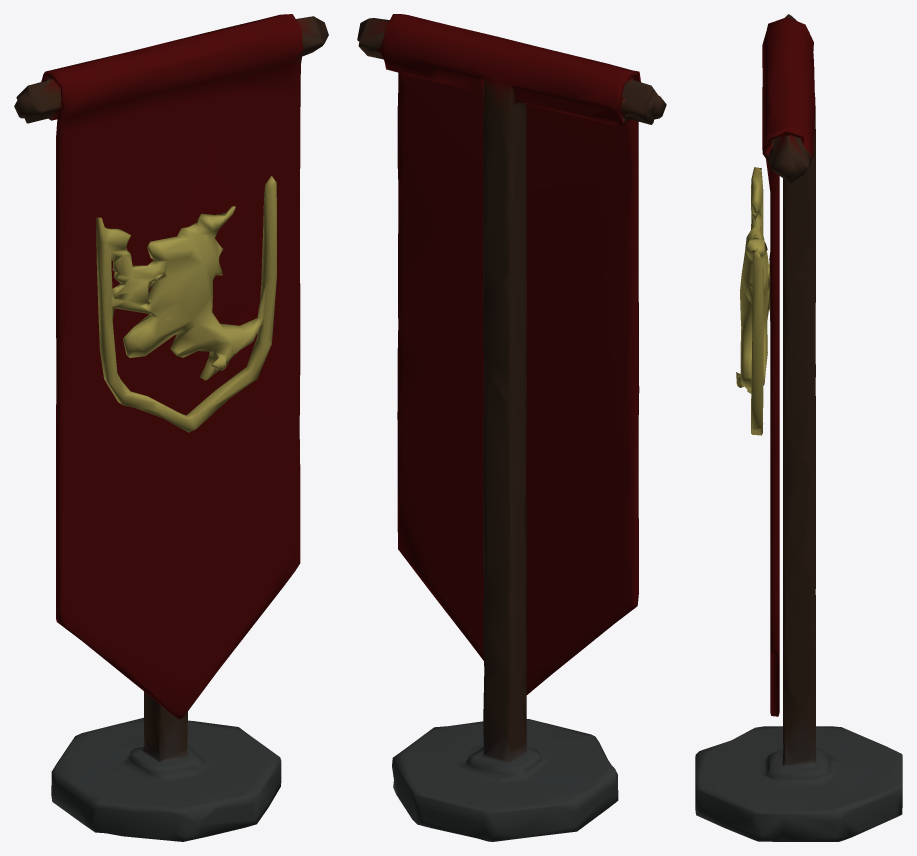
Rendered from gen3d-castle-banner-lod0.glb.
3 renders of one model, left to right at view 1: azimuth 30°, elevation 25°; view 2: azimuth 150°, elevation 25°; view 3: azimuth 270°, elevation 25°, orthographic. The views are drawn at different scales.
Visible parts, largest first — view 1: part_0; view 2: part_0; view 3: part_0.
Boxes of the visible parts, x1,y1,x2,y2 form: part_0: (14,14,328,841); part_0: (357,14,666,841); part_0: (695,14,902,841).
Size of the model in its own units: 0.4233 by 1 by 0.2586.
